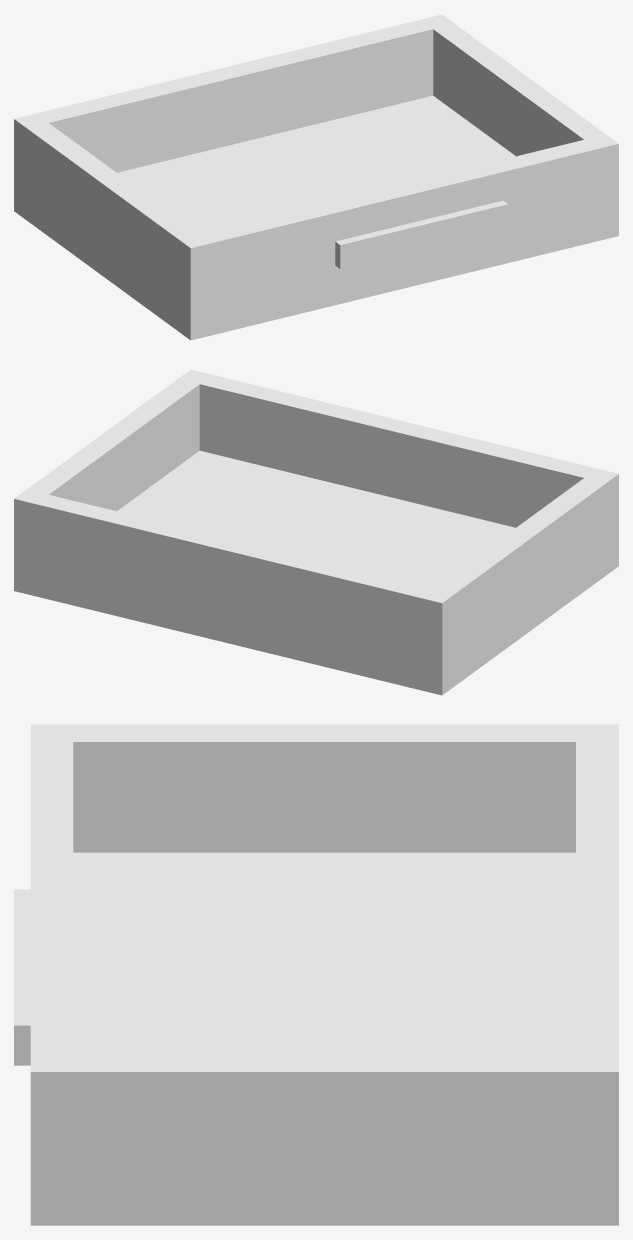
File: Itr_Obj_Fridge1_Drawer2_01.FBX
3 renders of one model, top to bottom at view 1: azimuth 30°, elevation 25°; view 2: azimuth 150°, elevation 25°; view 3: azimuth 270°, elevation 25°, orthographic. The views are drawn at different scales.
Visible parts, largest first — view 1: Itr_Obj_Fridge1_Drawer2_01; view 2: Itr_Obj_Fridge1_Drawer2_01; view 3: Itr_Obj_Fridge1_Drawer2_01.
Part boxes in pixels (x1,y1,x2,y2): Itr_Obj_Fridge1_Drawer2_01: [14, 14, 618, 340]; Itr_Obj_Fridge1_Drawer2_01: [14, 369, 618, 695]; Itr_Obj_Fridge1_Drawer2_01: [14, 724, 618, 1225].
Bounding box in the file's own units: 19.78 × 4.07 × 14.54.
